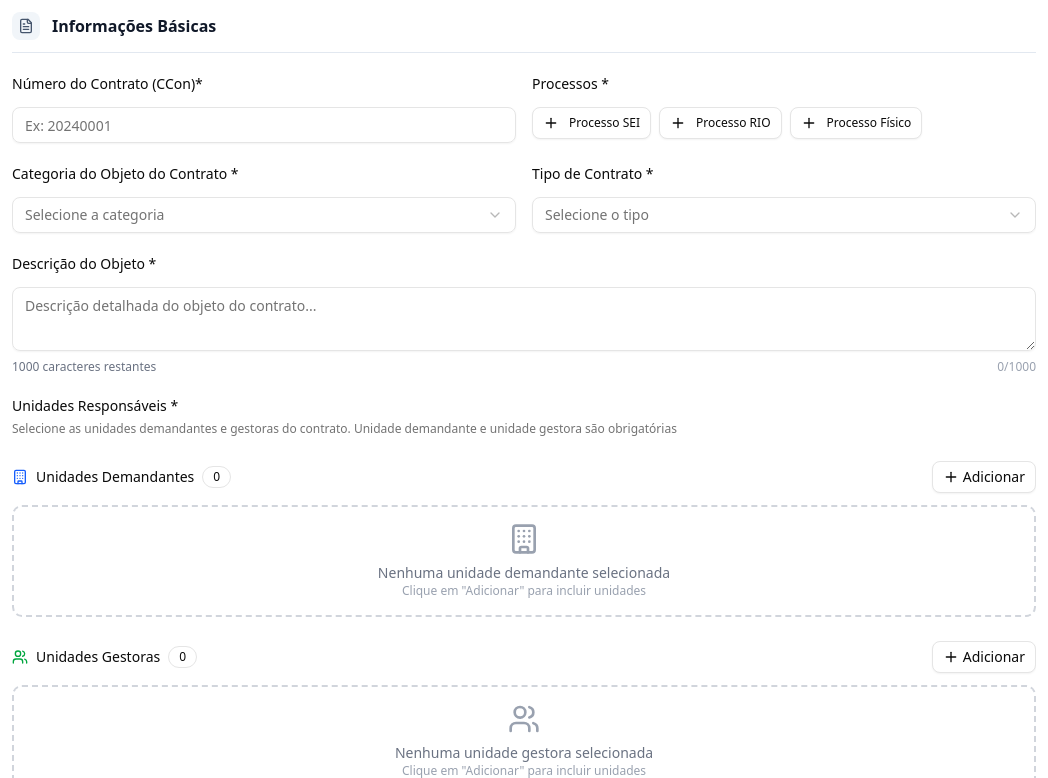
Test: ContratoForm › Funcionalidades de Processos › deve aplicar máscara LEG no processo físico
Adicionar processo físico
Click the button "Processo Físico" at (856, 123), box [790,107,922,139]
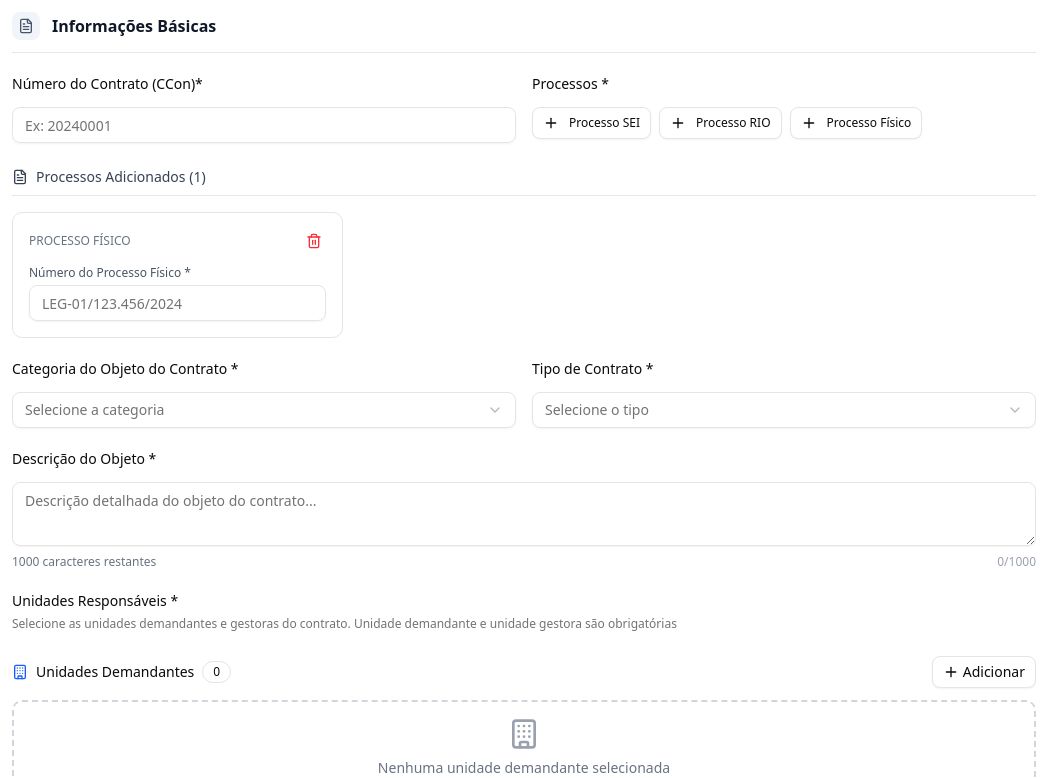
Now the field with placeholder "LEG-01/123.456/2024" is shown, box [29,285,326,321]
